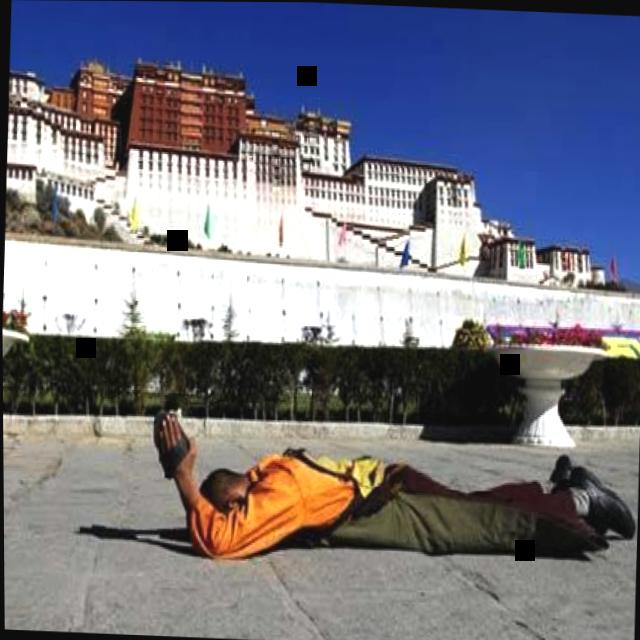Fall-Detected: (143, 408, 629, 572)
